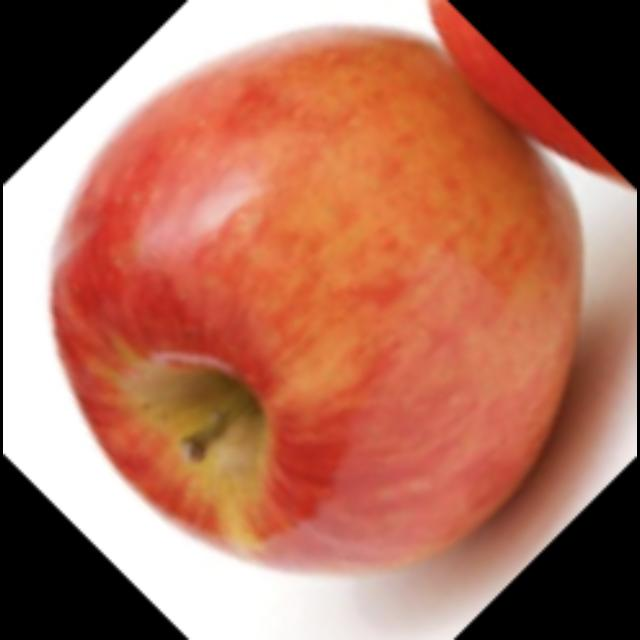Apel Segar: (44, 20, 584, 578)
